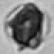correct: (3, 2, 51, 52)
